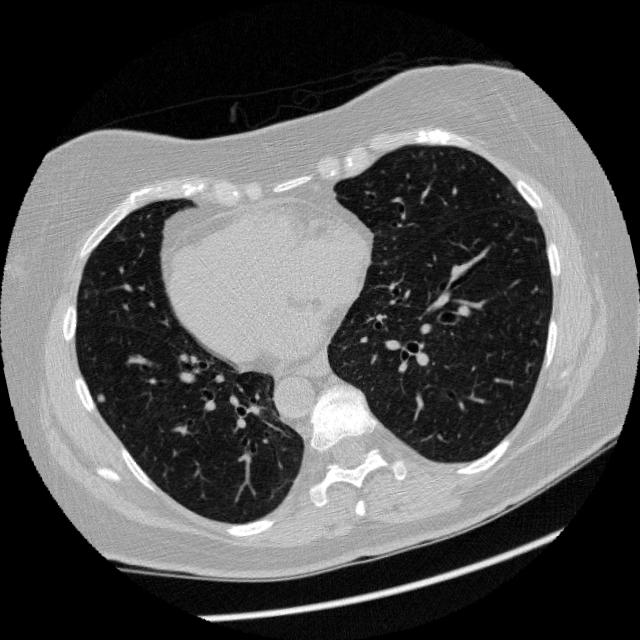nodule: (91, 386, 112, 406)
